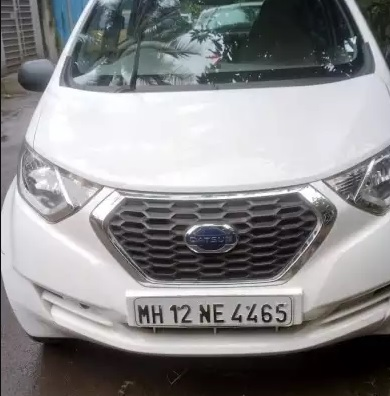licenseplate: (127, 289, 308, 329)
